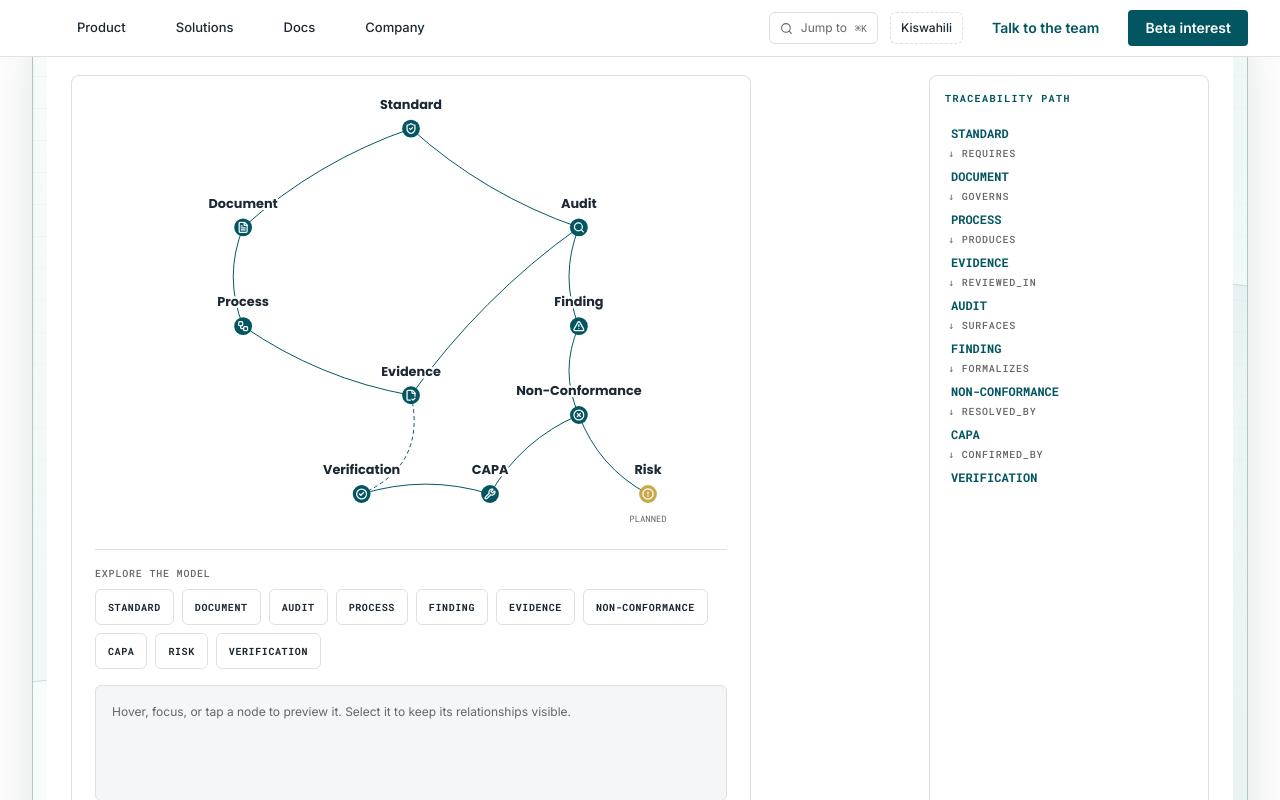
it: interactive product illustrations › keeps graph and trace selections in sync after a temporary preview
This screenshot has width=1280, height=800.
(page scrolled)
Click the button with test id "trace-step-capa": (1069, 433) x1=945 y1=419 x2=1193 y2=447
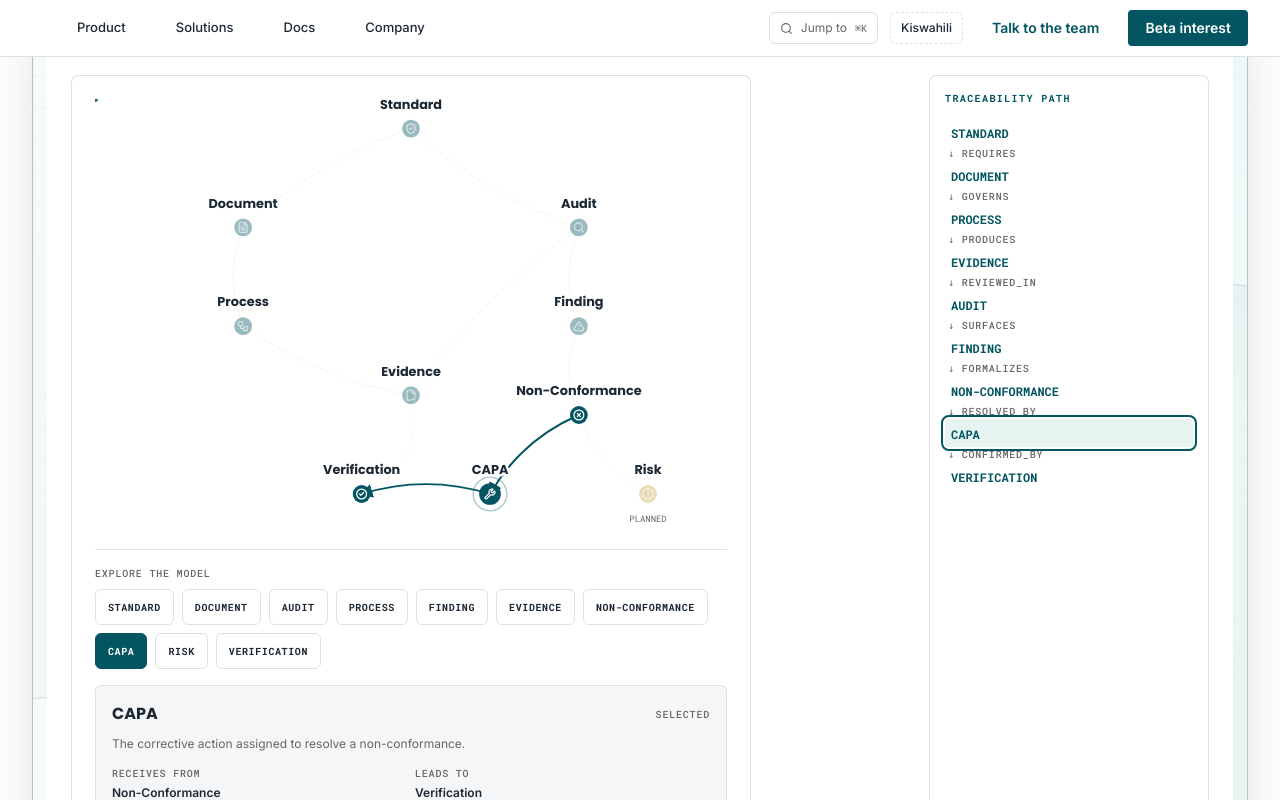
Expected: the button with test id "trace-step-capa" is pressed, x1=945 y1=419 x2=1193 y2=447
Expected: the button with test id "graph-control-capa" is pressed, x1=95 y1=633 x2=147 y2=669
Hover over the button with test id "trace-step-audit": (1069, 304) x1=945 y1=290 x2=1193 y2=318
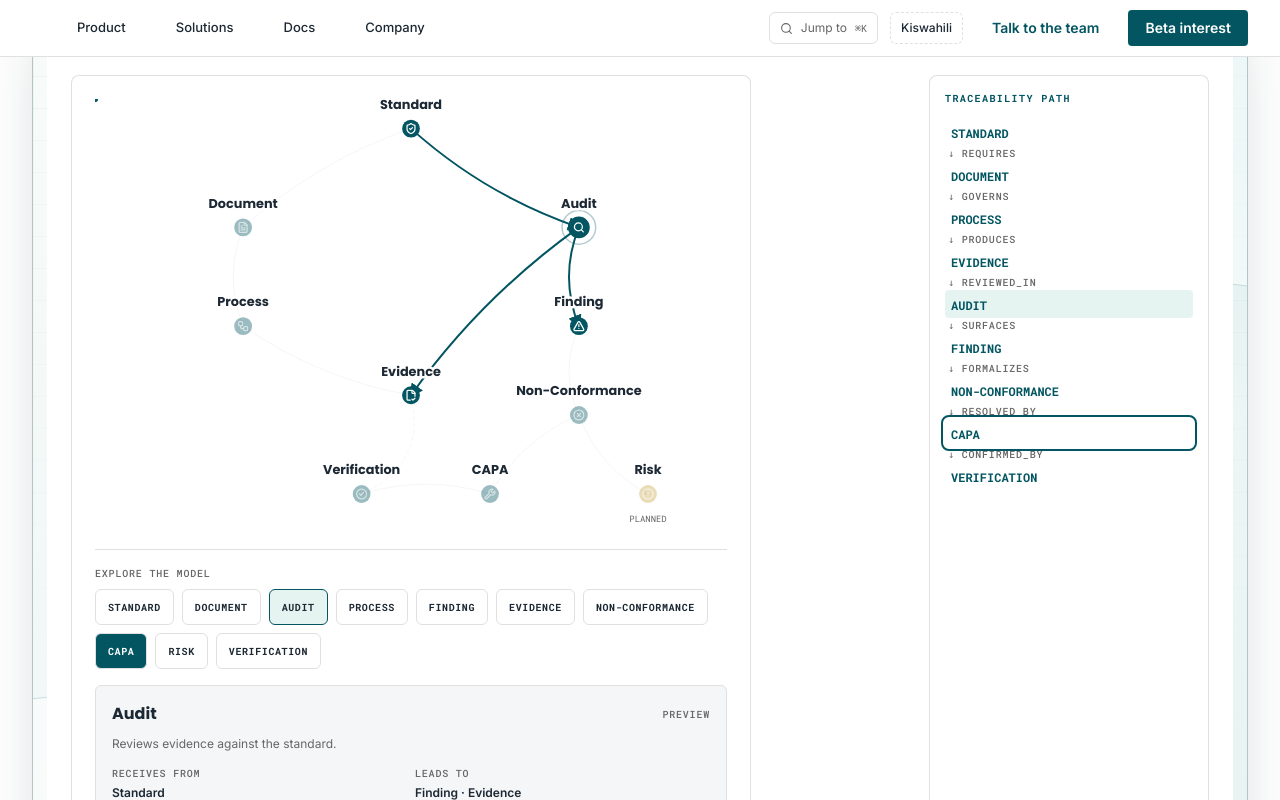
Expected: the element with test id "graph-detail" shows "Audit", x1=112 y1=702 x2=157 y2=725
Move the pointer off the button with test id "trace-step-audit", box x1=945 y1=290 x2=1193 y2=318
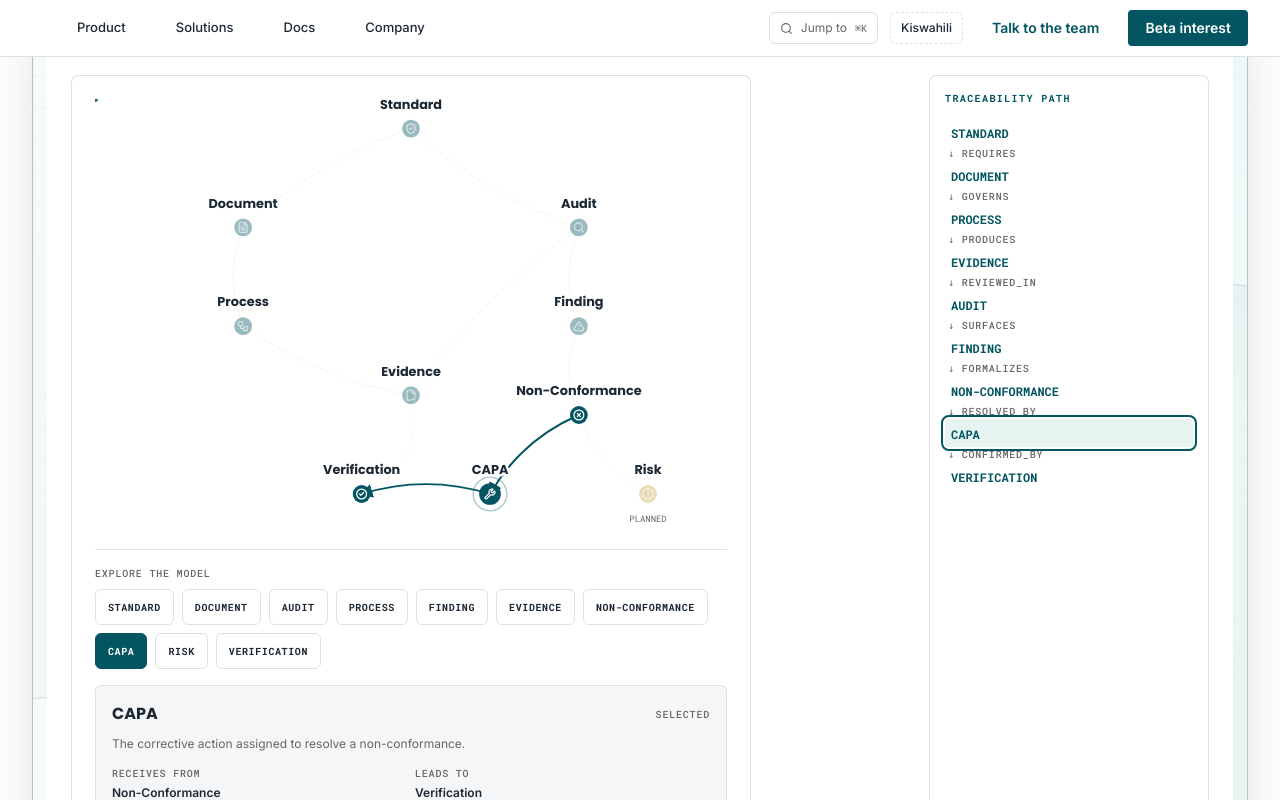
Expected: the text "CAPA" in the row of "Selected" is shown, x1=112 y1=702 x2=158 y2=725
Click the button with test id "graph-control-document": (221, 607) x1=182 y1=589 x2=261 y2=625
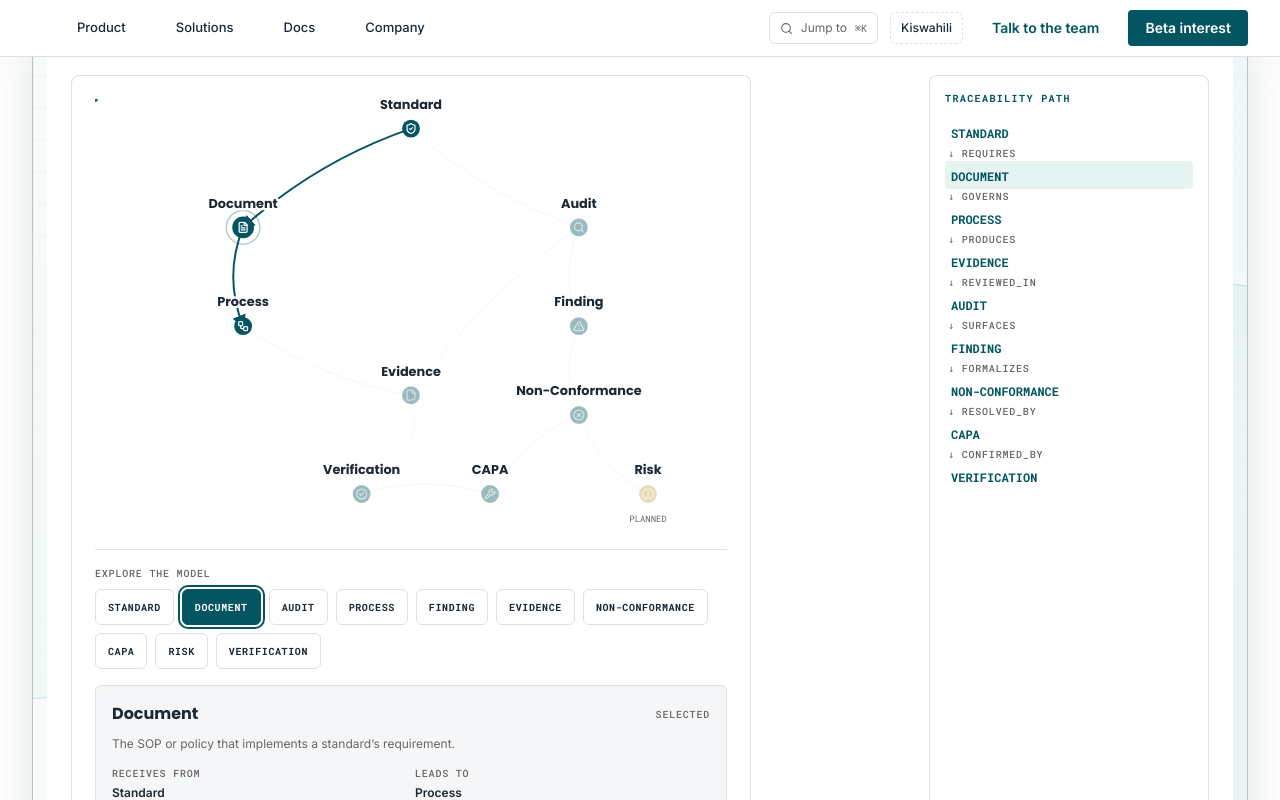
Expected: the button with test id "trace-step-document" is pressed, x1=945 y1=161 x2=1193 y2=189
Expected: the button with test id "trace-step-capa" is not pressed, x1=945 y1=419 x2=1193 y2=447
